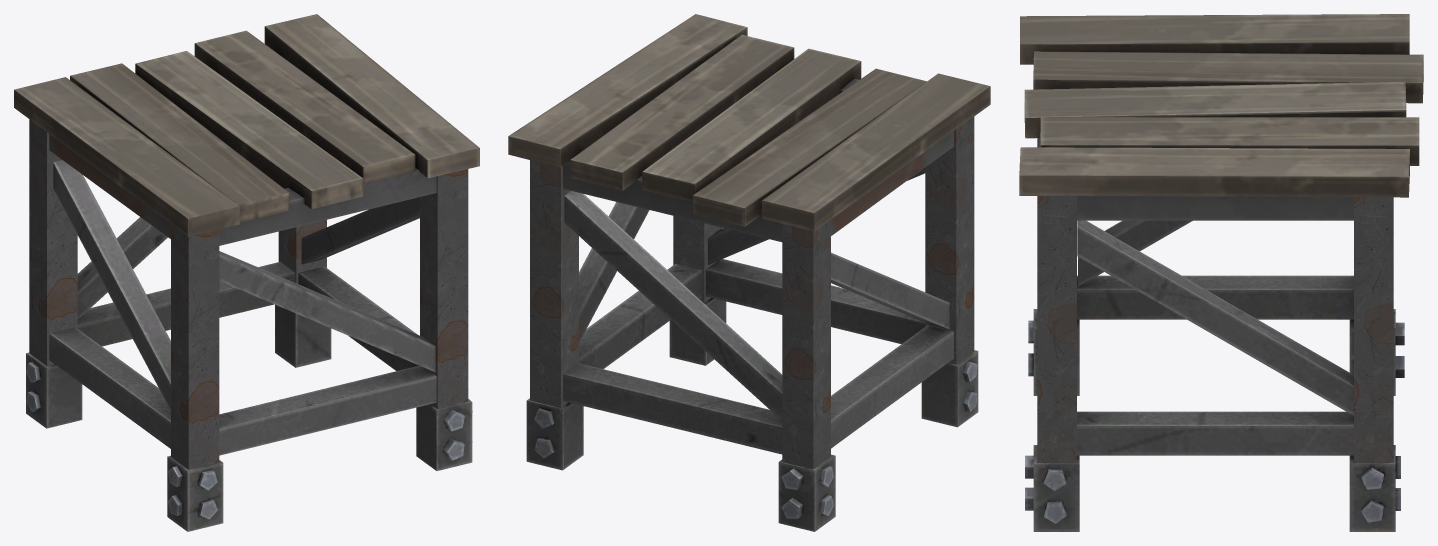
Rendered from WoodPlatform1x1_Thin.glb.
3 renders of one model, left to right at view 1: azimuth 30°, elevation 25°; view 2: azimuth 150°, elevation 25°; view 3: azimuth 270°, elevation 25°, orthographic. The views are drawn at different scales.
Visible parts, largest first — view 1: WoodPlatform1x1_Thin, 1x1Scaffold, ScaleSupportBeam_Metal (2) (×4); view 2: WoodPlatform1x1_Thin, 1x1Scaffold, ScaleSupportBeam_Metal (2) (×4); view 3: WoodPlatform1x1_Thin, 1x1Scaffold, ScaleSupportBeam_Metal (2) (×2).
Part boxes in pixels (x1,y1,x2,y2): WoodPlatform1x1_Thin: (14, 14, 479, 245); 1x1Scaffold: (26, 160, 472, 531); ScaleSupportBeam_Metal (2) (×4): (29, 119, 468, 469); WoodPlatform1x1_Thin: (508, 14, 990, 241); 1x1Scaffold: (526, 168, 978, 531); ScaleSupportBeam_Metal (2) (×4): (530, 117, 974, 469); WoodPlatform1x1_Thin: (1019, 14, 1423, 220); 1x1Scaffold: (1025, 220, 1404, 531); ScaleSupportBeam_Metal (2) (×2): (1037, 196, 1393, 462).
Bounding box in the file's own units: 1 × 1.02 × 1.04.
Materials: 3 (3 with a texture image).
